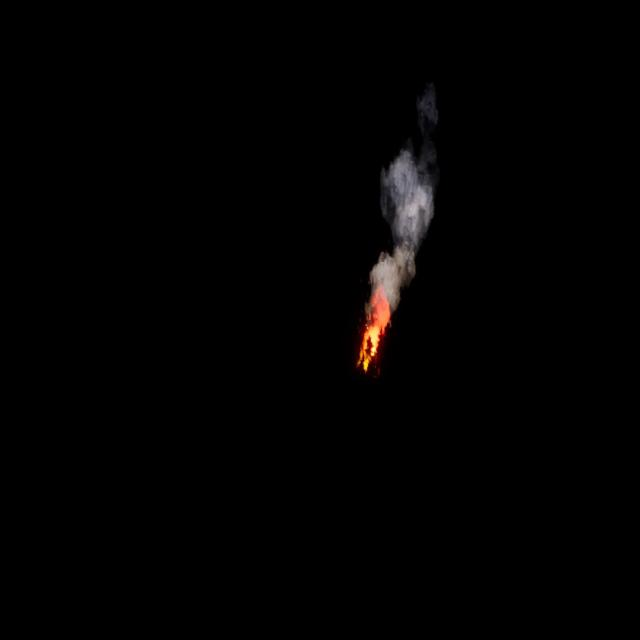fire: (357, 297, 391, 378)
smoke: (367, 150, 435, 318)
